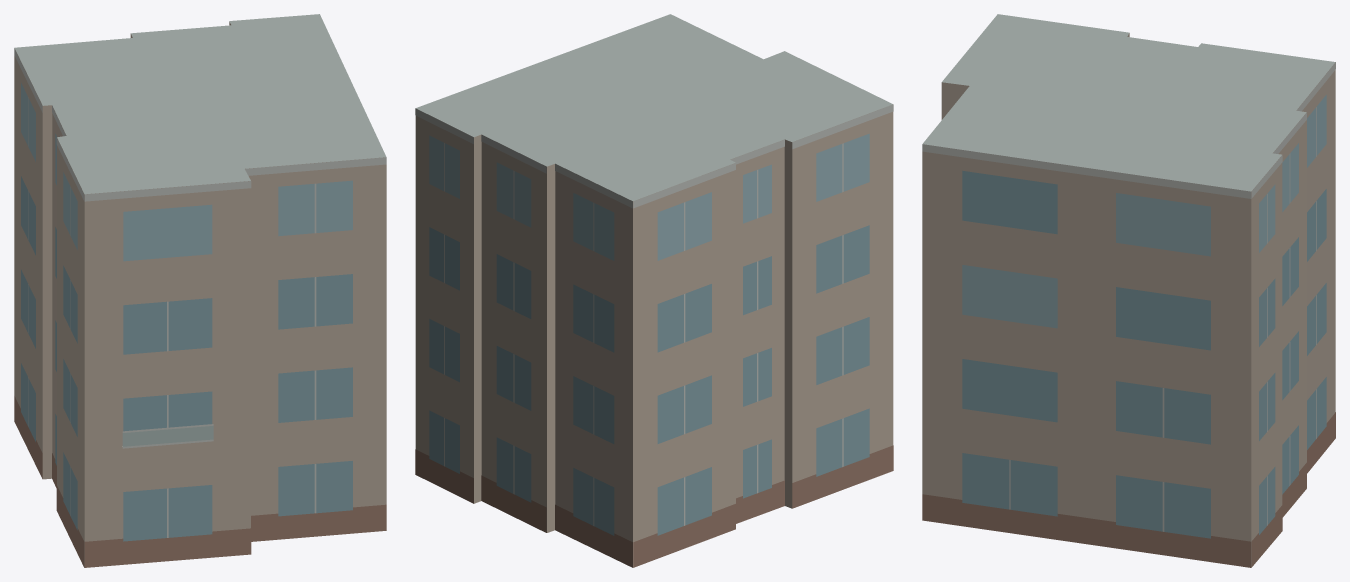
File: survey-upis-32702982.glb
The picture shows the model from 3 angles, left to right: view 1: azimuth 30°, elevation 25°; view 2: azimuth 150°, elevation 25°; view 3: azimuth 270°, elevation 25°; orthographic projection. The views are drawn at different scales.
Visible parts, largest first — view 1: survey-upis-32702982.tmp; view 2: survey-upis-32702982.tmp; view 3: survey-upis-32702982.tmp.
Boxes of the visible parts, x1,y1,x2,y2 form: survey-upis-32702982.tmp: (14, 14, 386, 567); survey-upis-32702982.tmp: (415, 14, 893, 567); survey-upis-32702982.tmp: (922, 14, 1335, 567).
Size of the model in its own units: 12.56 by 12.4 by 12.36.
